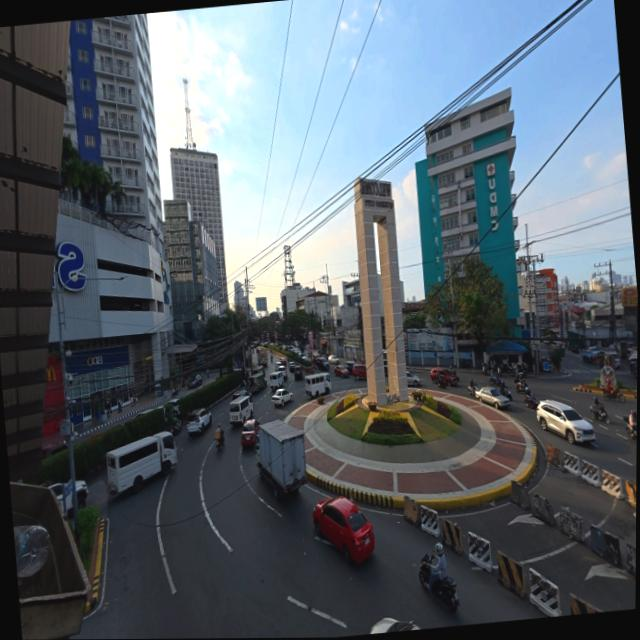car: (312, 494, 380, 570), (533, 394, 596, 451), (470, 381, 512, 412), (182, 400, 215, 437), (239, 419, 261, 451), (428, 364, 457, 387), (405, 369, 423, 388), (351, 363, 366, 380)
motorcycle: (415, 547, 459, 615)
trucks: (253, 415, 311, 505)
vans: (102, 428, 181, 500)
